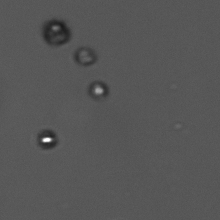Dead Cell: (43, 15, 71, 48), (75, 47, 99, 69)
Living Cell: (82, 78, 117, 99), (33, 126, 60, 152)
